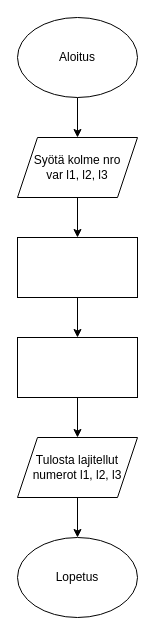
Some shapes in this 155 by 635 pixel diagram are drawn without their labels. The shapes that lost their labels are listed below. From the top down, each one's centre as x and y in pixels, then its label:
(x=77, y=267): pyydä luvut l1, l2, l3 ja taulukko (l1, l2, l3)
(x=77, y=367): Järjestä taulukko
